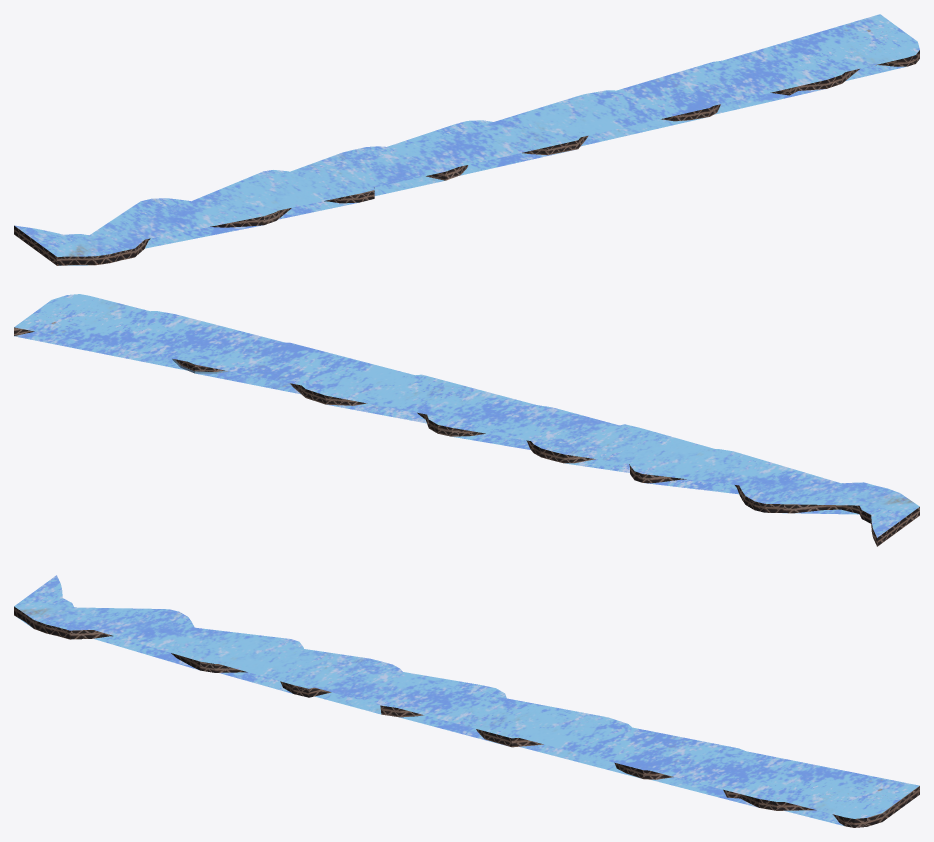
The model's file is WaveNew.fbx.
3 views of the same model, one above another, from view 1: azimuth 30°, elevation 25°; view 2: azimuth 150°, elevation 25°; view 3: azimuth 330°, elevation 25° (orthographic).
Visible parts, largest first — view 1: Plane; view 2: Plane; view 3: Plane.
Part boxes in pixels (<box>): Plane: <box>14,14,919,265</box>; Plane: <box>14,294,919,546</box>; Plane: <box>14,575,919,827</box>.
Size of the model in its own units: 4000 by 39.69 by 432.
